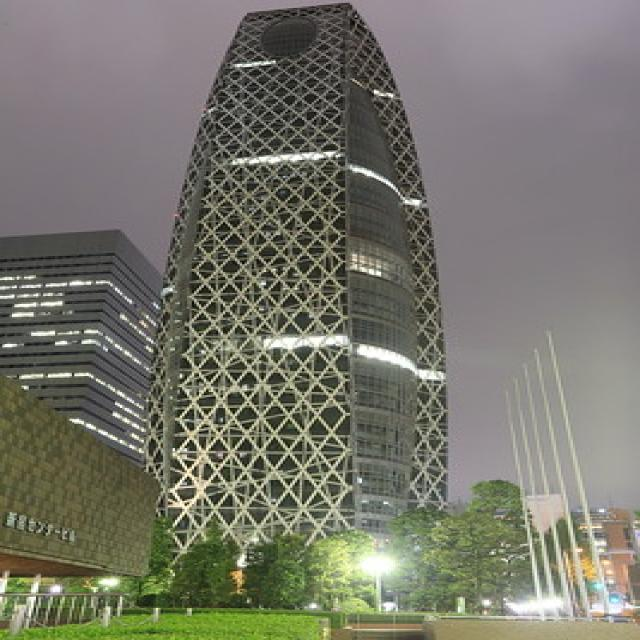building: (91, 0, 456, 616)
